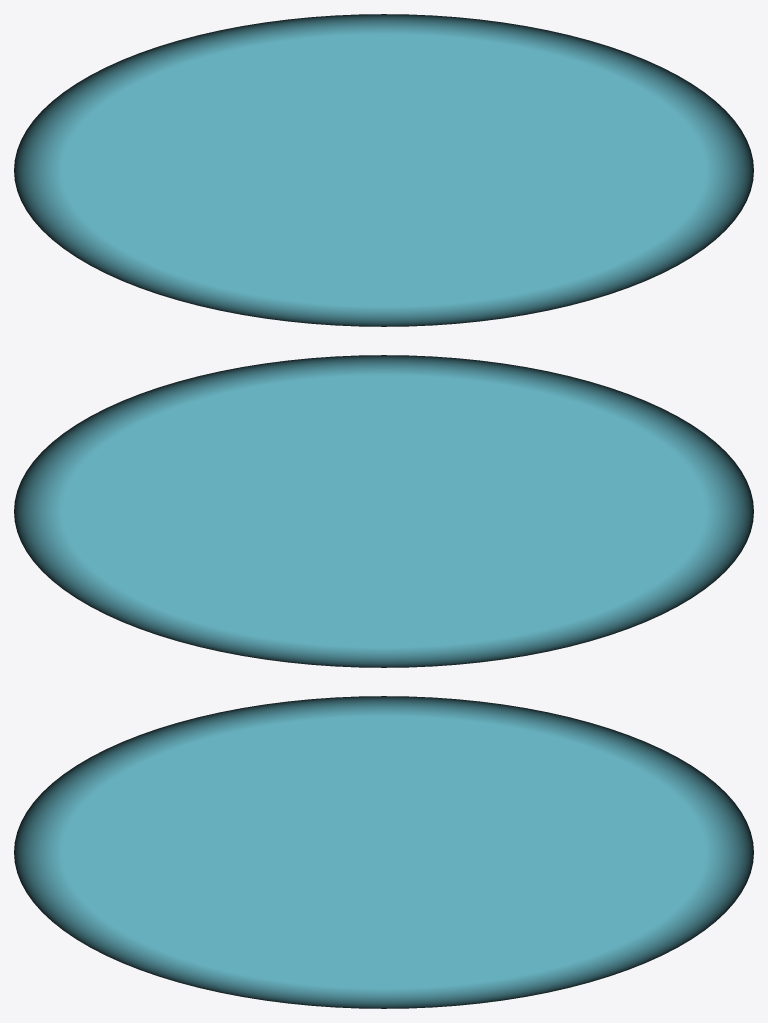
File: SM_SF_SpringSurface.fbx
3 views of the same model, one above another, from view 1: azimuth 30°, elevation 25°; view 2: azimuth 150°, elevation 25°; view 3: azimuth 270°, elevation 25° (orthographic).
Visible parts, largest first — view 1: SM_SF_SpringSurface; view 2: SM_SF_SpringSurface; view 3: SM_SF_SpringSurface.
Boxes of the visible parts, x1,y1,x2,y2 form: SM_SF_SpringSurface: (14,14,753,326); SM_SF_SpringSurface: (14,355,753,667); SM_SF_SpringSurface: (14,696,753,1008).
Size of the model in its own units: 4.1 by 4.1 by 0.
